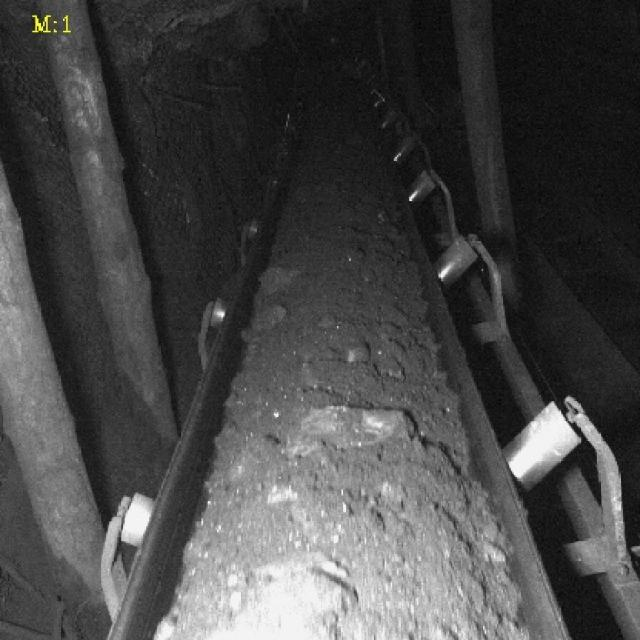large_sized_coal: (215, 541, 353, 640), (291, 405, 418, 460), (257, 252, 305, 297), (240, 309, 298, 346)
